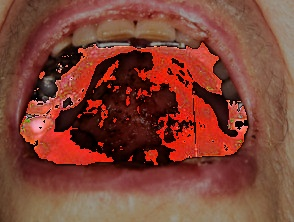SJS-TEN: (71, 47, 196, 170)
